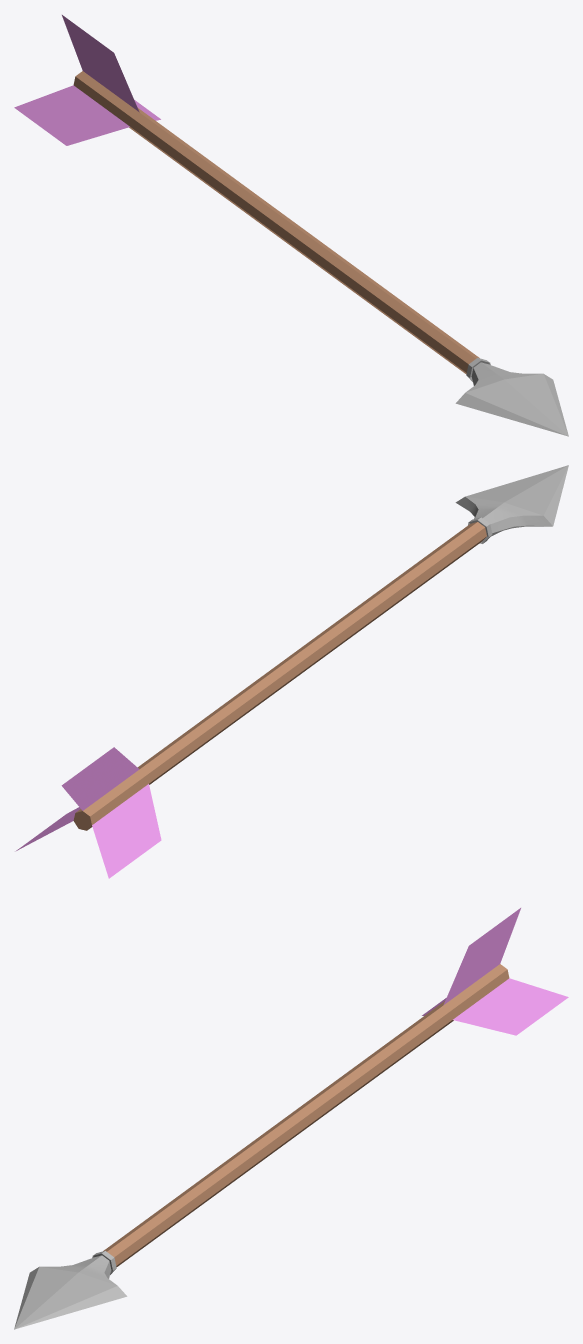
The model's file is arrowdeff.fbx.
3 views of the same model, one above another, from view 1: azimuth 30°, elevation 25°; view 2: azimuth 150°, elevation 25°; view 3: azimuth 330°, elevation 25° (orthographic).
Visible parts, largest first — view 1: Flecha; view 2: Flecha; view 3: Flecha.
Boxes of the visible parts, x1,y1,x2,y2 form: Flecha: [14, 15, 568, 436]; Flecha: [15, 465, 568, 878]; Flecha: [14, 908, 568, 1329].
Size of the model in its own units: 8.45 by 6.75 by 75.97.
